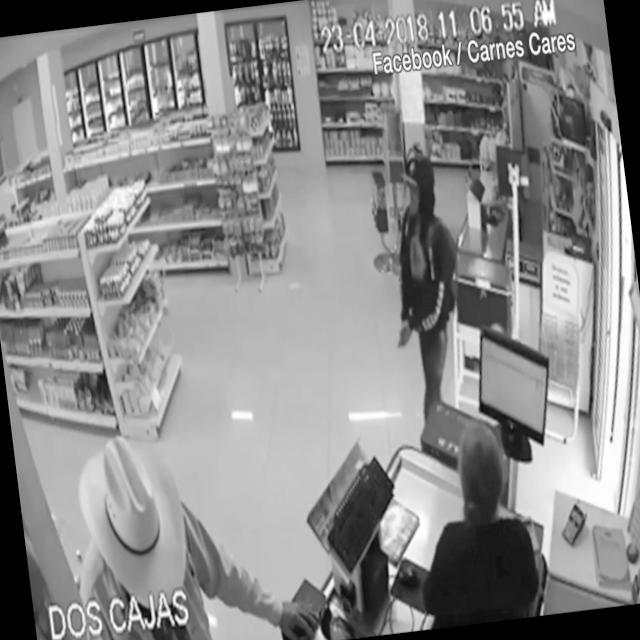gun: (391, 317, 414, 352)
person: (79, 436, 220, 634), (422, 433, 506, 602)
person with a gun: (371, 146, 481, 418)
